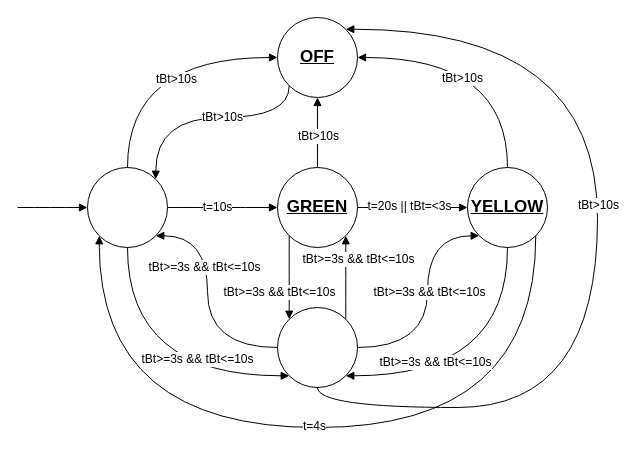
Image size: 636x450. Some labels were removed from this diagram. Each missing label, with the centre of its shape:
ALERT Yellow blinks @ 1Hz: the point at 317,347
RED: the point at 127,207
